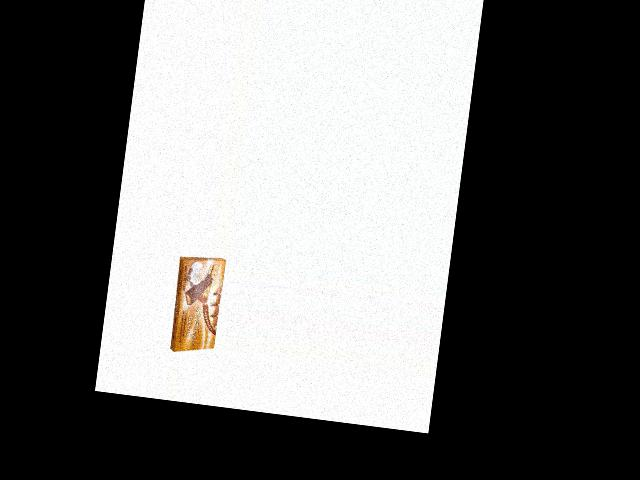chocolate: (167, 252, 227, 358)
